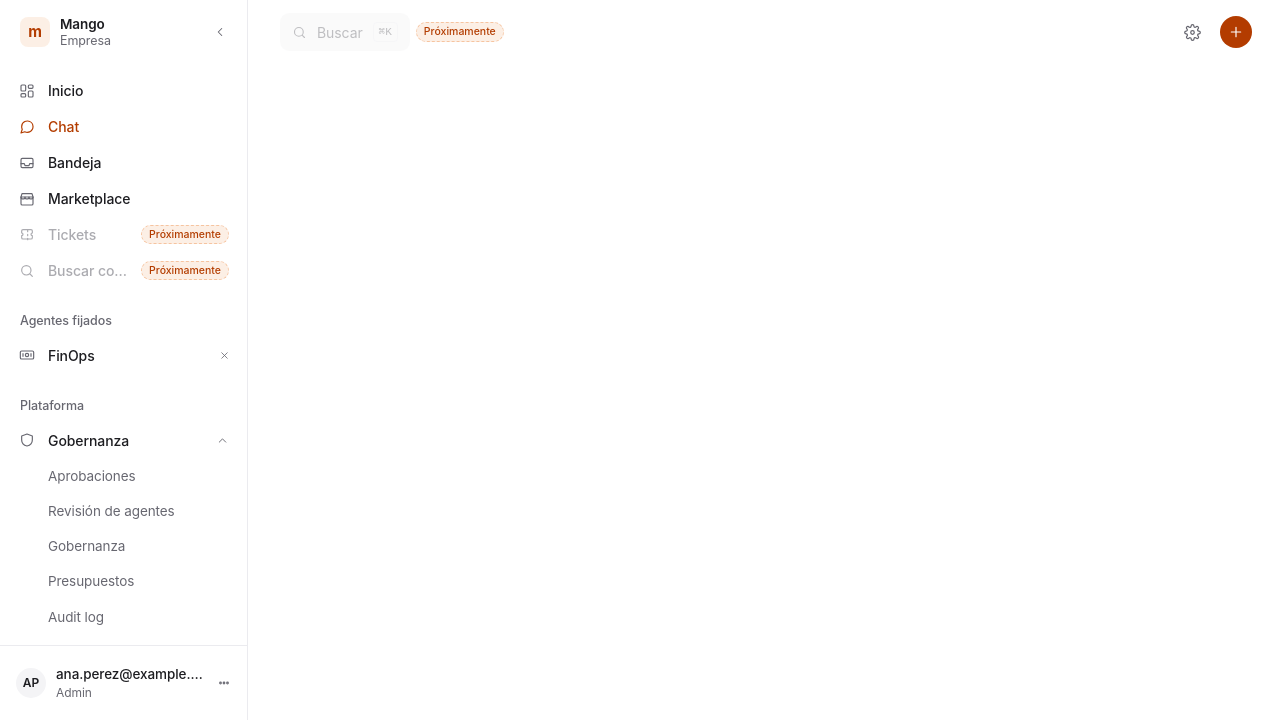
Test: AppLayout › pins an agent for the sidebar and keeps it across reloads
The image size is (1280, 720).
Click the button named "Quitar FinOps de fijados". click: (224, 355)
box: [216,347,233,364]
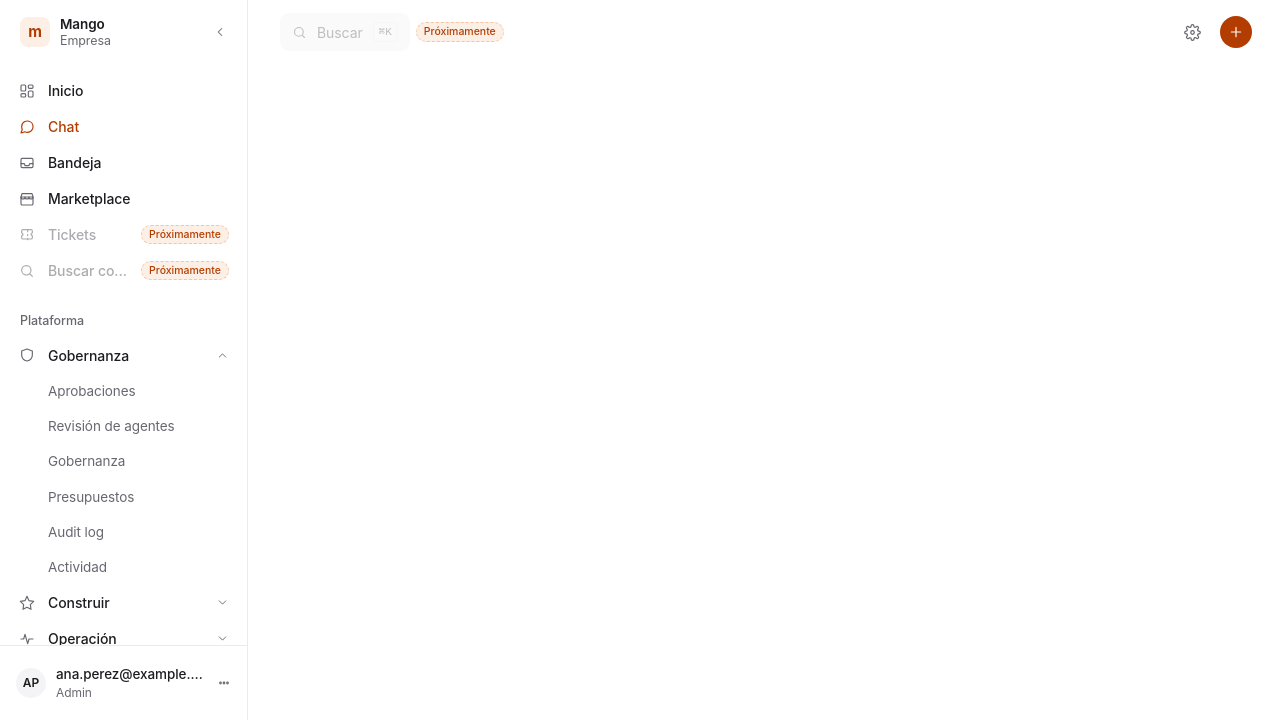
Expected: the list item "Agentes fijados" is gone
